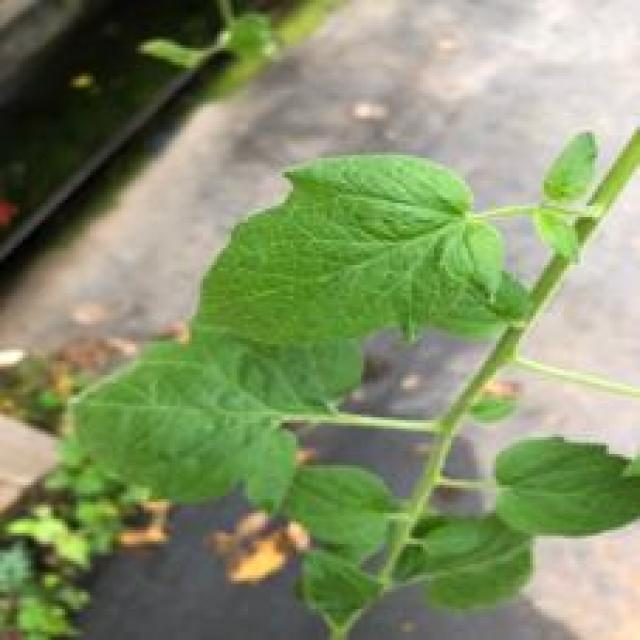Tomato healthy leaf: (195, 155, 547, 352), (79, 329, 373, 516), (493, 437, 640, 539)
